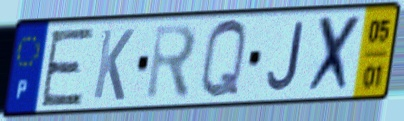E: (37, 25, 97, 109)
J: (264, 19, 306, 94)
K: (90, 26, 137, 103)
Q: (197, 16, 249, 103)
R: (143, 21, 200, 104)
X: (303, 11, 365, 98)
